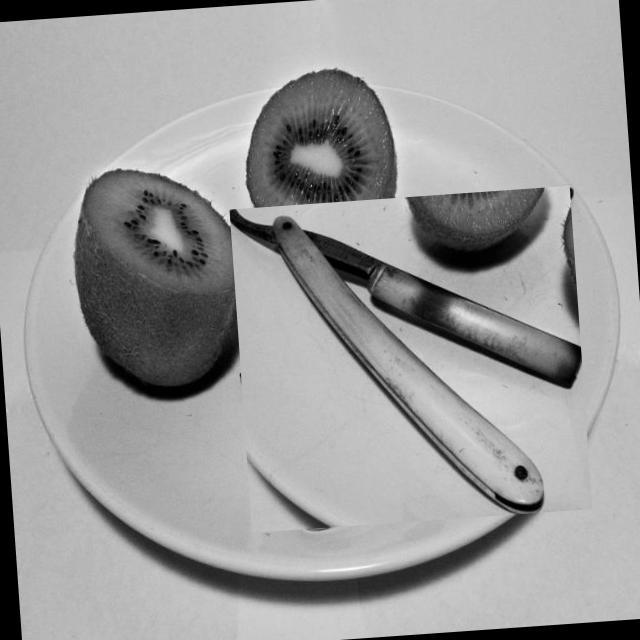Knife: (230, 209, 581, 513)
